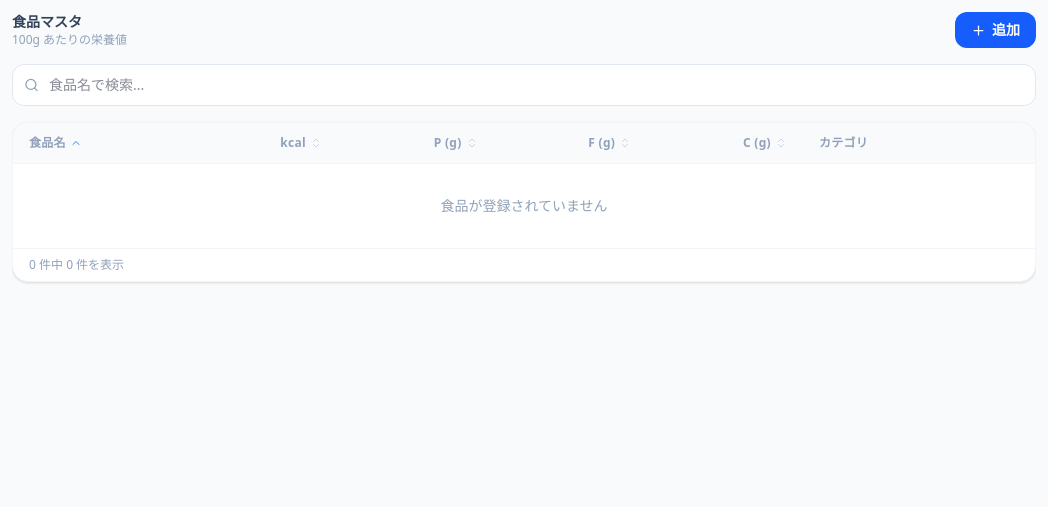
Scenario: FoodTable — 保存成功 › insertFood が呼ばれ「保存しました」が表示される
The image size is (1048, 507).
Click the button "追加" at (996, 30), box x1=955 y1=12 x2=1036 y2=48
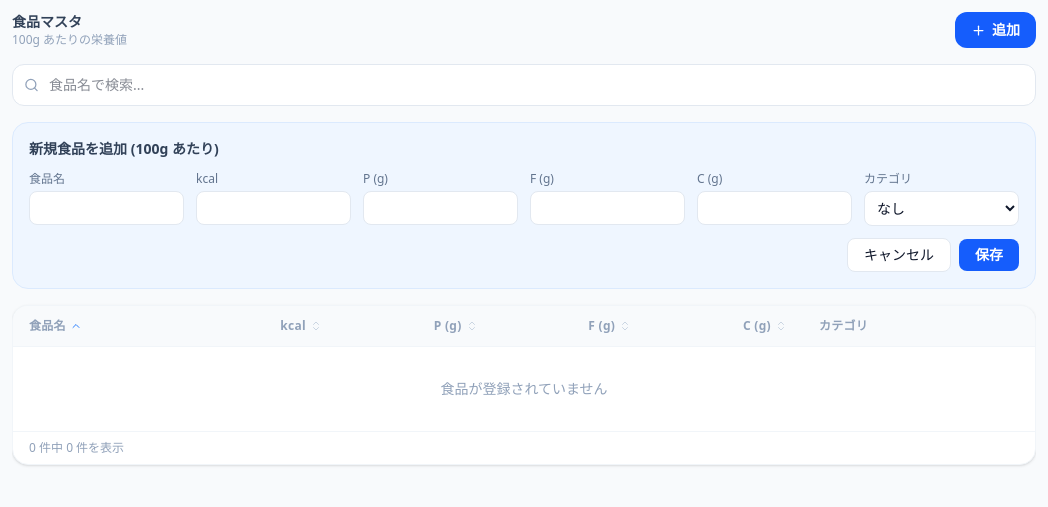
Type "テスト食品" into the 2nd field at (106, 208), box x1=29 y1=191 x2=184 y2=225
Type "200" into the 1st number field at (274, 208), box x1=196 y1=191 x2=351 y2=225
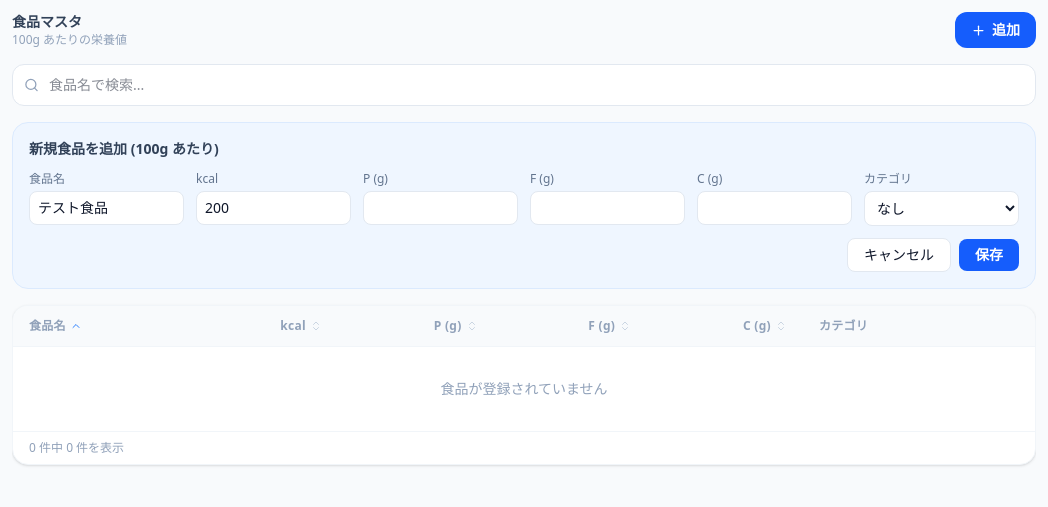
Type "10" into the 2nd number field at (440, 208), box x1=363 y1=191 x2=518 y2=225
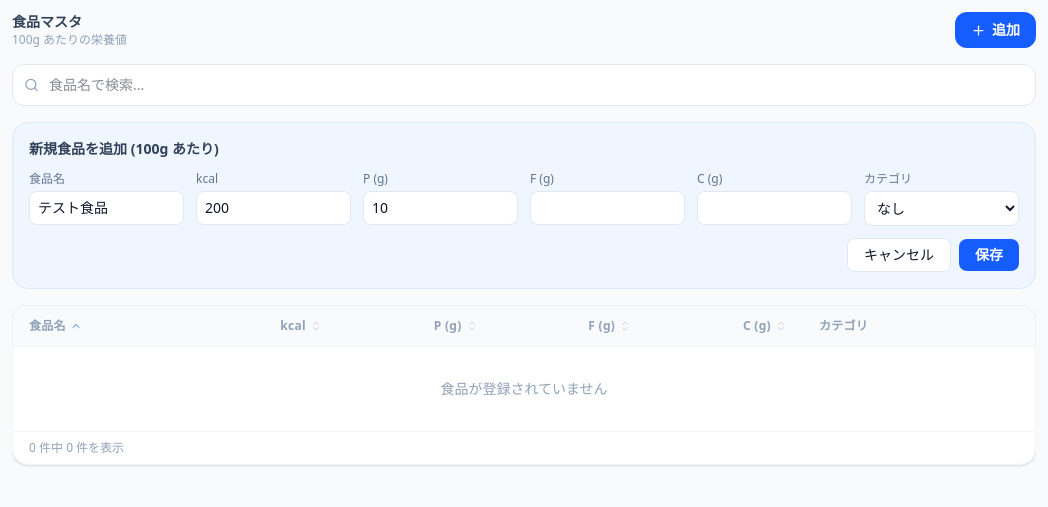
Type "5" into the 3rd number field at (608, 208), box x1=530 y1=191 x2=685 y2=225
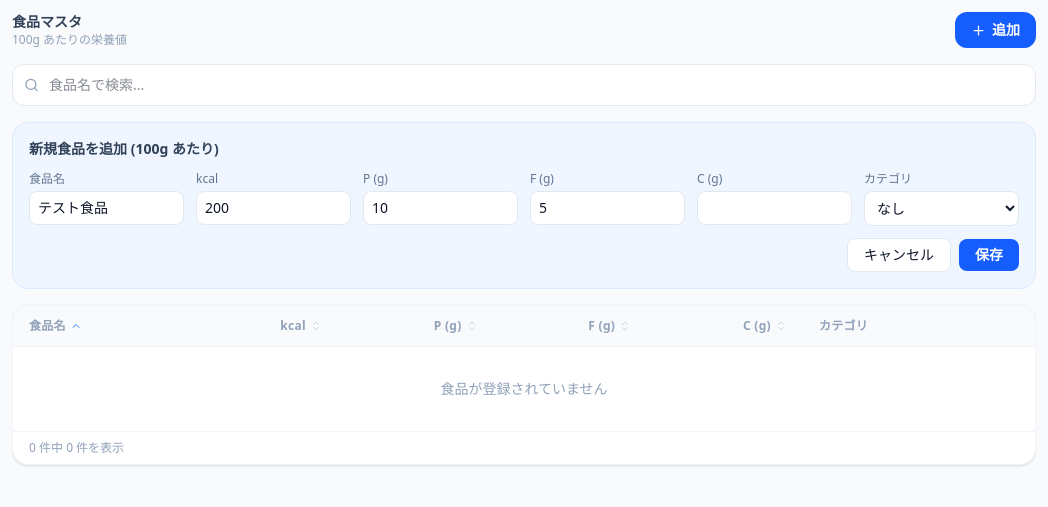
Type "30" into the 4th number field at (774, 208), box x1=697 y1=191 x2=852 y2=225
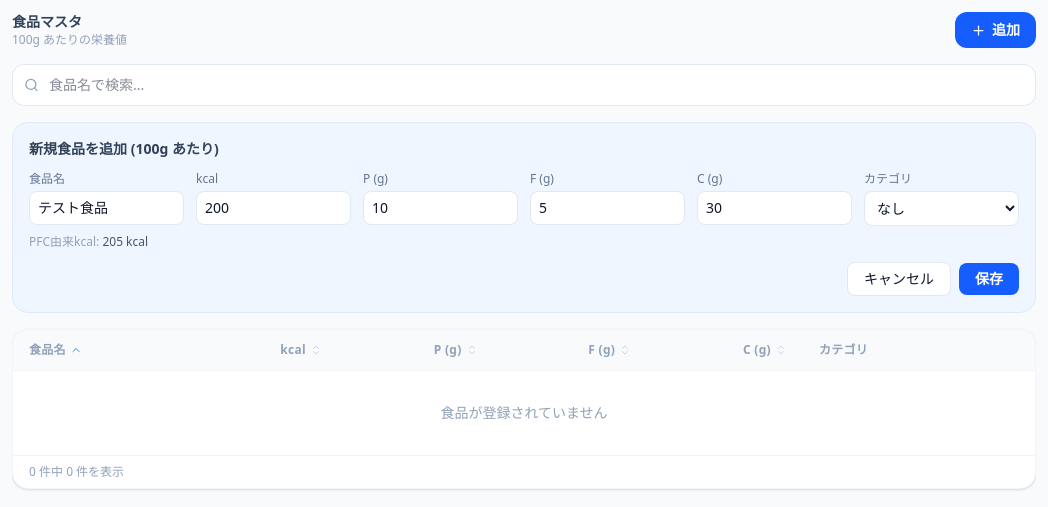
Click the button "保存" at (989, 279), box x1=959 y1=263 x2=1019 y2=295
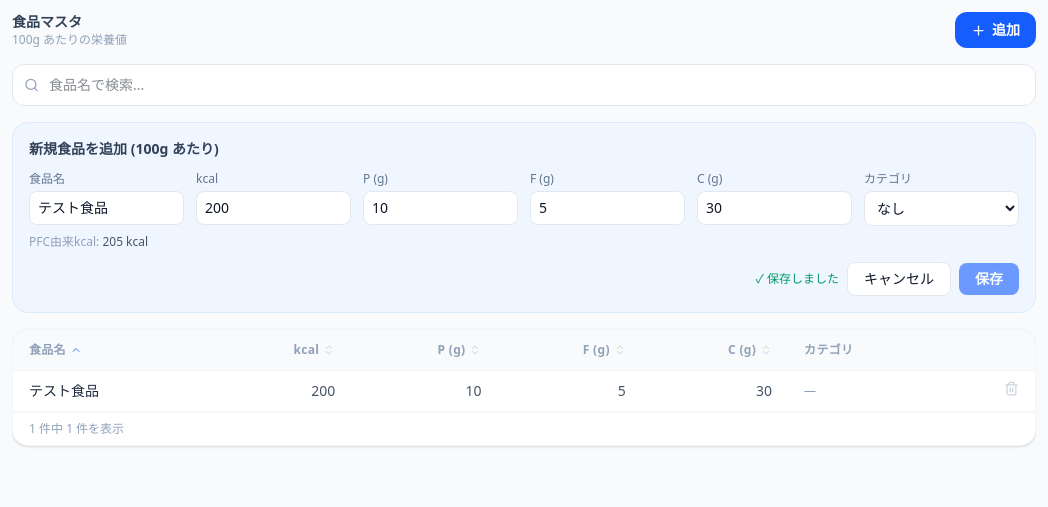
Check: the text "✓ 保存しました" is shown, box x1=756 y1=271 x2=839 y2=287
